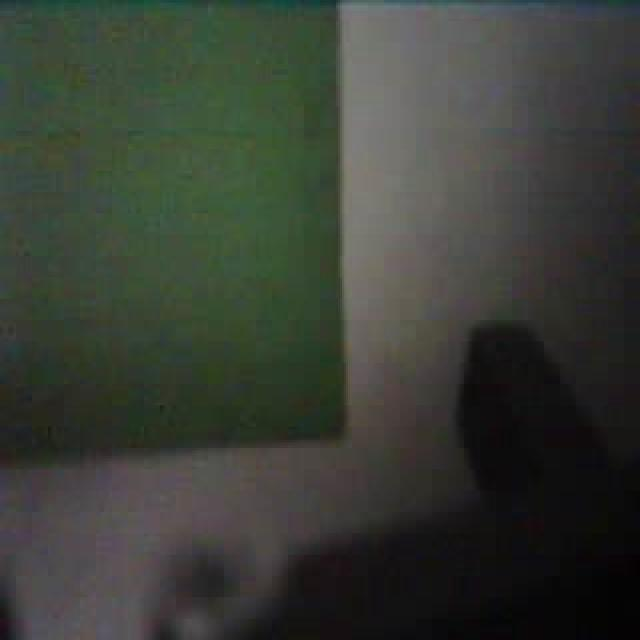green_box: (0, 0, 350, 456)
